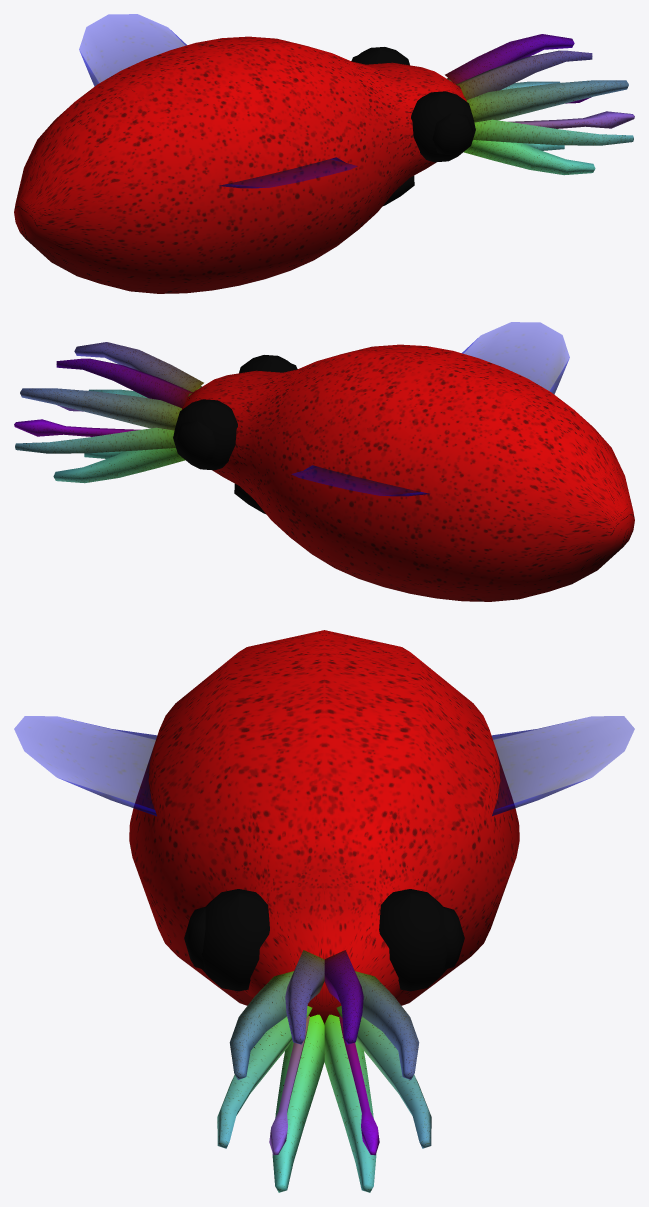
The model's file is bobtail_squid_lod1.glb.
The picture shows the model from 3 angles, top to bottom: view 1: azimuth 30°, elevation 25°; view 2: azimuth 150°, elevation 25°; view 3: azimuth 270°, elevation 25°; orthographic projection. The views are drawn at different scales.
Parts seen in each view (by area): view 1: Body, Arms, Fins, Eyes; view 2: Body, Arms, Fins, Eyes; view 3: Body, Arms, Fins, Eyes.
Part boxes in pixels (x1,y1,x2,y2): Body: [14, 36, 466, 293]; Arms: [445, 34, 634, 175]; Fins: [79, 14, 356, 188]; Eyes: [351, 47, 475, 162]; Body: [182, 344, 634, 601]; Arms: [14, 342, 203, 483]; Fins: [292, 322, 569, 496]; Eyes: [173, 355, 297, 470]; Body: [129, 630, 519, 1023]; Arms: [217, 950, 431, 1192]; Fins: [14, 716, 634, 816]; Eyes: [184, 889, 464, 991].
Bounding box in the file's own units: 1 × 0.3439 × 0.6383.
Materials: 4 (2 with a texture image).
